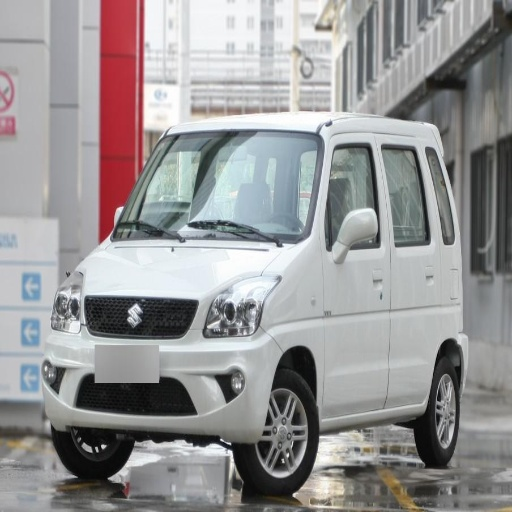front_bumper: (41, 290, 281, 443)
front_glass: (112, 130, 322, 242)
front_left_door: (327, 139, 389, 417)
front_right_light: (51, 273, 84, 333)
